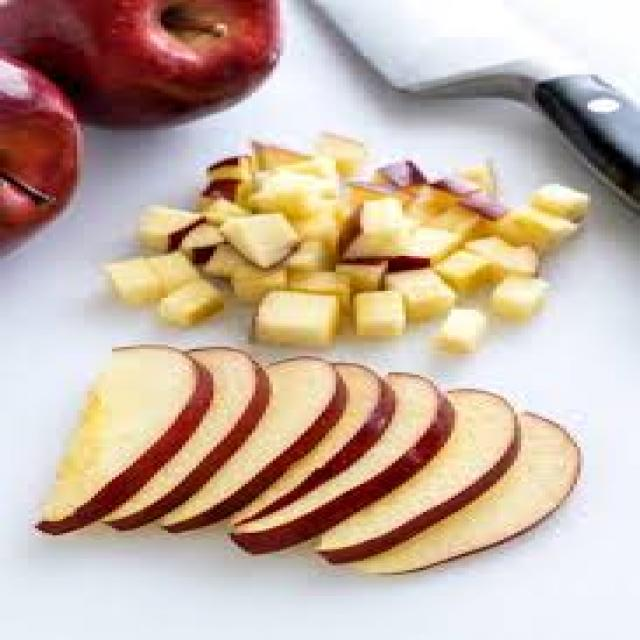Apple: (301, 384, 516, 555), (353, 410, 579, 570), (7, 0, 282, 113), (227, 375, 453, 512), (44, 347, 206, 532), (168, 355, 336, 524), (1, 49, 78, 252), (170, 345, 253, 504), (304, 358, 371, 550), (250, 288, 362, 352), (336, 191, 406, 265), (219, 210, 299, 268), (385, 246, 449, 307), (152, 280, 227, 330), (431, 304, 498, 355), (344, 296, 414, 342), (231, 257, 290, 310), (488, 206, 577, 241), (140, 201, 203, 250), (490, 277, 560, 319), (148, 240, 202, 292), (442, 179, 510, 220), (103, 258, 159, 305), (472, 234, 540, 269), (439, 255, 498, 294), (318, 150, 381, 185), (245, 136, 306, 172), (185, 213, 224, 263), (463, 157, 509, 197), (369, 156, 425, 188), (425, 190, 486, 217), (318, 128, 366, 162), (301, 268, 348, 302), (535, 184, 584, 216), (343, 262, 388, 288), (205, 155, 257, 173), (203, 175, 239, 200)
